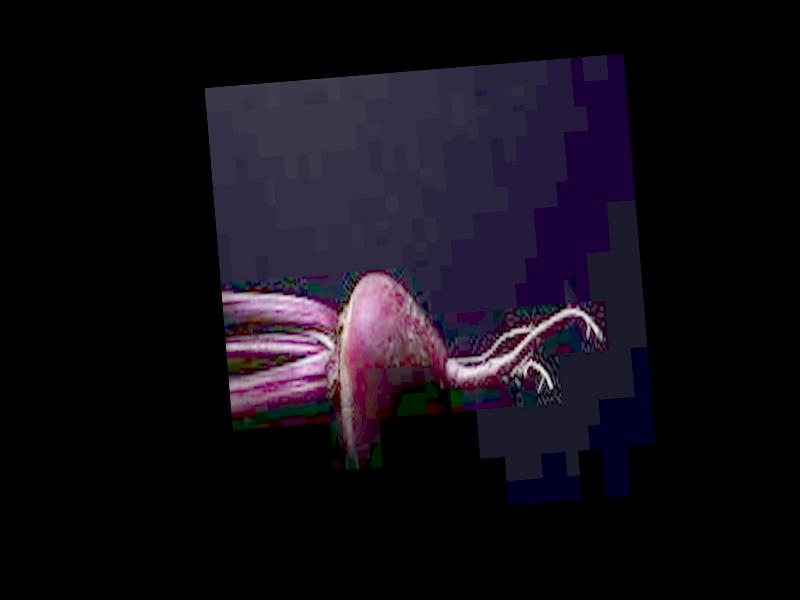Beet: (221, 243, 611, 478)
